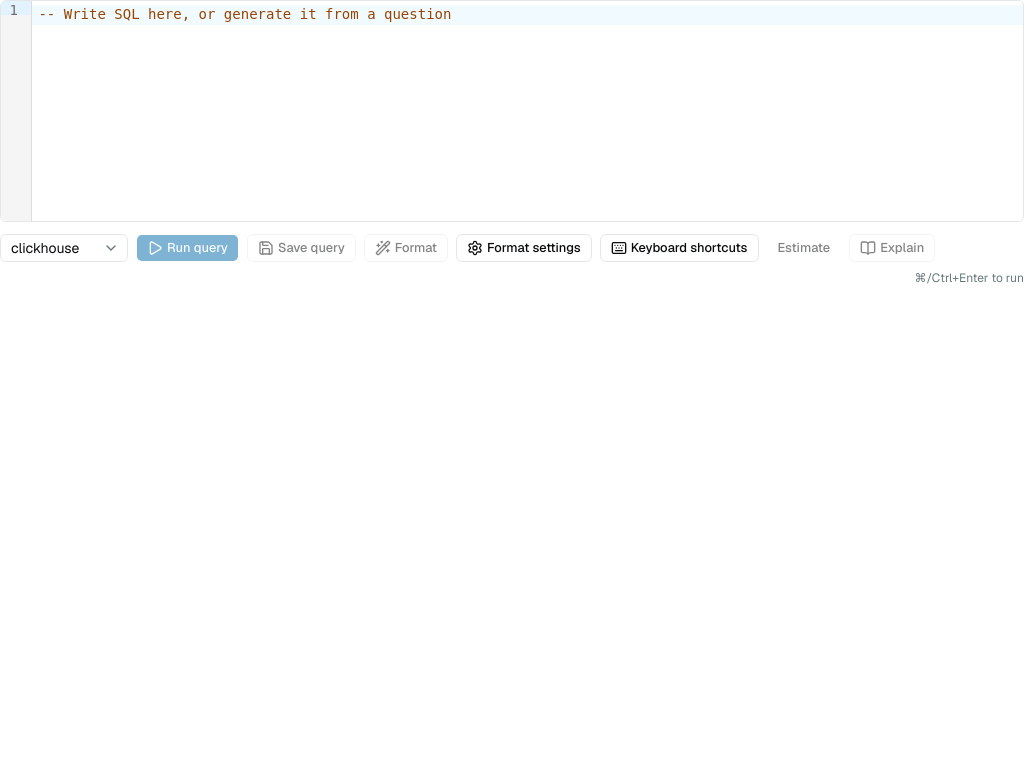
Test: KeyboardShortcutsDialog › opens the dialog from the button in the toolbar and lists a row for every shortcut
The image size is (1024, 768).
Step 1. Click the button "Keyboard shortcuts" → click(679, 248), box [600,234,758,262]
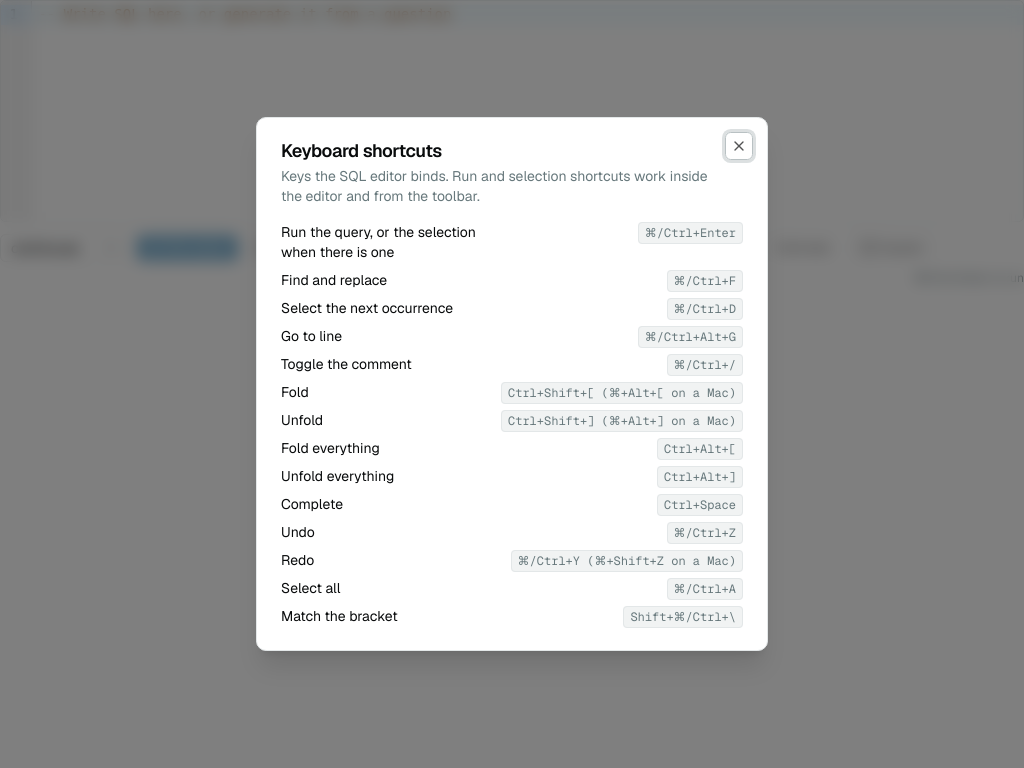
Check: the text "Run the query, or the selection when there is one" is shown, box [281,222,485,262]
Check: the text "Find and replace" is shown, box [281,271,387,289]
Check: the text "Select the next occurrence" is shown, box [281,299,453,317]
